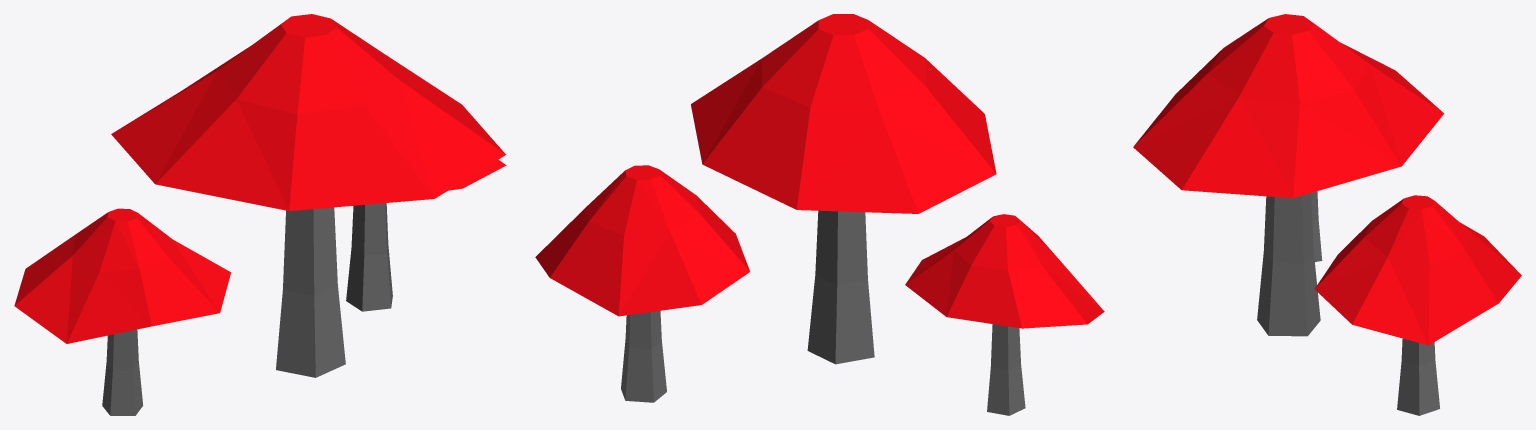
Rendered from Mushroom_03.obj.
3 views of the same model, side by side, from view 1: azimuth 30°, elevation 25°; view 2: azimuth 150°, elevation 25°; view 3: azimuth 270°, elevation 25° (orthographic). The views are drawn at different scales.
Visible parts, largest first — view 1: Mushroom_03_Cylinder.024; view 2: Mushroom_03_Cylinder.024; view 3: Mushroom_03_Cylinder.024.
Boxes of the visible parts, bbox=[...] form: Mushroom_03_Cylinder.024: bbox=[14, 14, 506, 415]; Mushroom_03_Cylinder.024: bbox=[535, 14, 1104, 415]; Mushroom_03_Cylinder.024: bbox=[1133, 14, 1521, 415].
Size of the model in its own units: 2.33 by 1.57 by 1.71.
